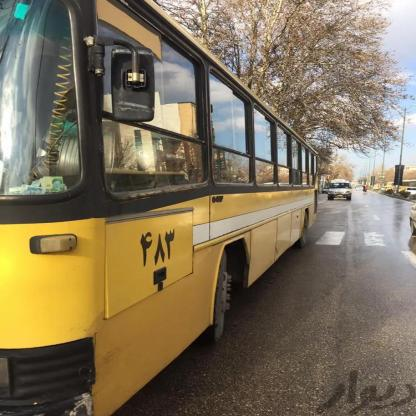Bus: (0, 0, 319, 416)
Car: (324, 174, 360, 210)
